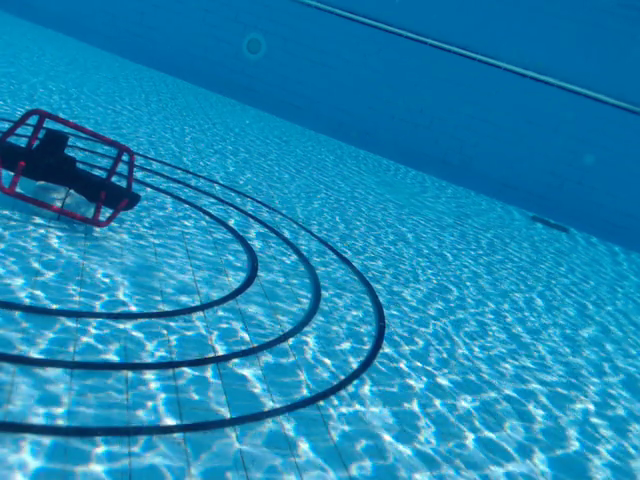submarine: (1, 107, 142, 229)
